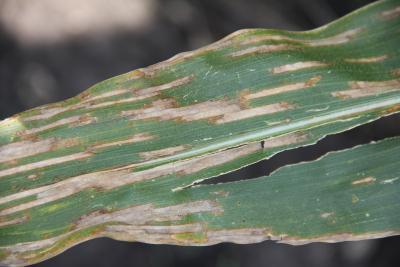Gray_Leaf_Spot: (0, 48, 149, 196), (0, 190, 232, 267), (196, 0, 367, 56), (143, 75, 316, 122), (221, 223, 400, 255), (122, 42, 195, 99), (270, 52, 400, 74), (329, 88, 400, 123), (146, 146, 213, 181), (330, 74, 400, 107), (201, 137, 271, 166), (266, 124, 311, 160), (350, 172, 400, 190), (314, 203, 343, 224), (379, 0, 400, 21), (344, 194, 363, 209)
